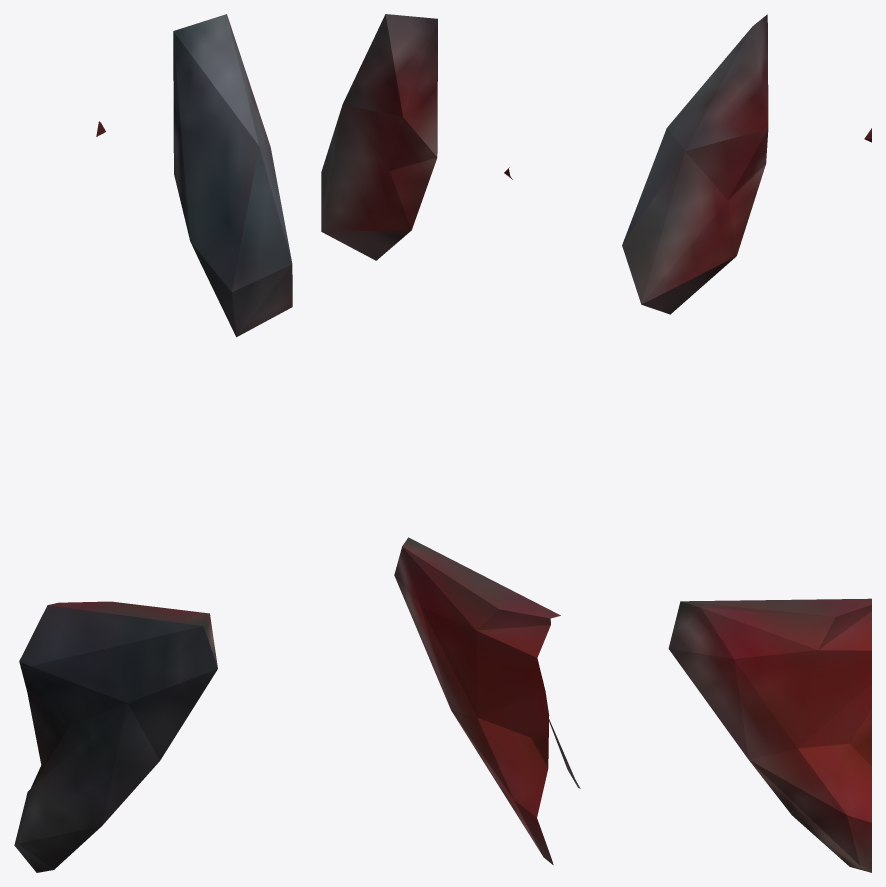
3 renders of one model, left to right at view 1: azimuth 30°, elevation 25°; view 2: azimuth 210°, elevation 25°; view 3: azimuth 270°, elevation 25°, orthographic. The views are drawn at different scales.
Size of the model in its own units: 0.0791 by 0.3885 by 0.0961.
Materials: 1 (1 with a texture image).
